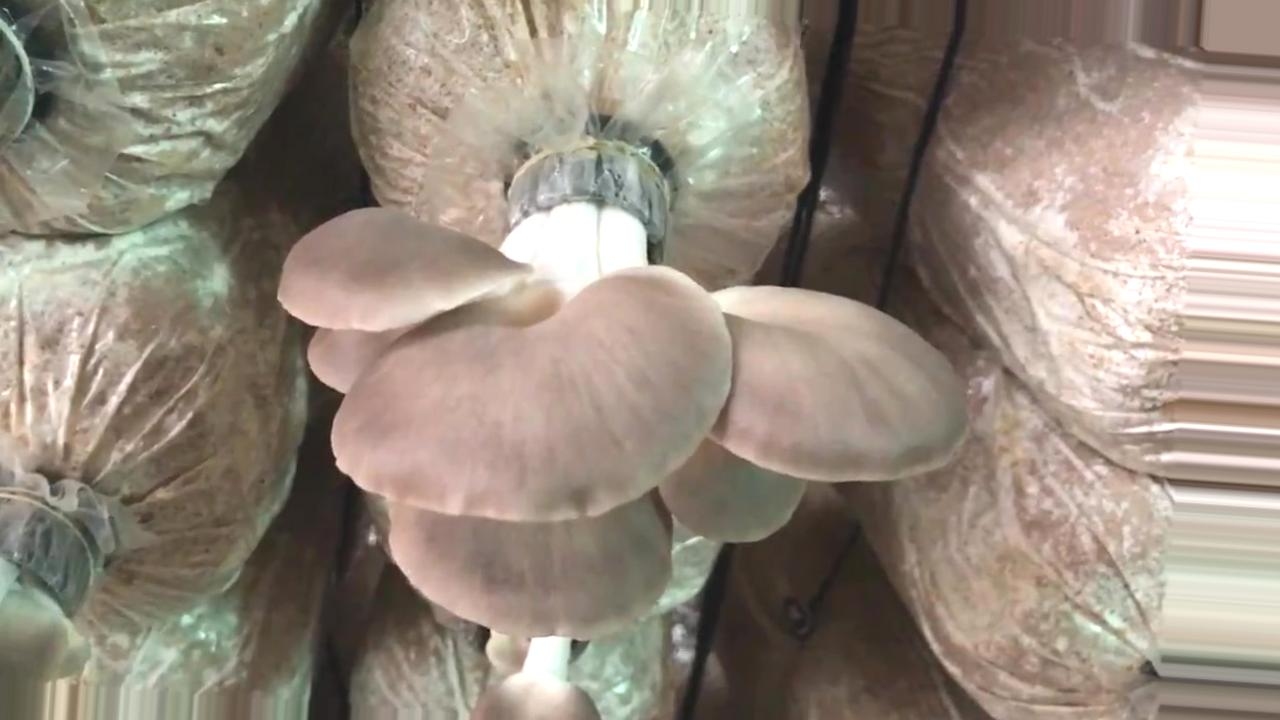nam: (277, 147, 966, 637), (1, 501, 90, 683), (470, 630, 598, 720)
